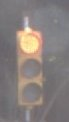Red: (15, 30, 46, 115)
